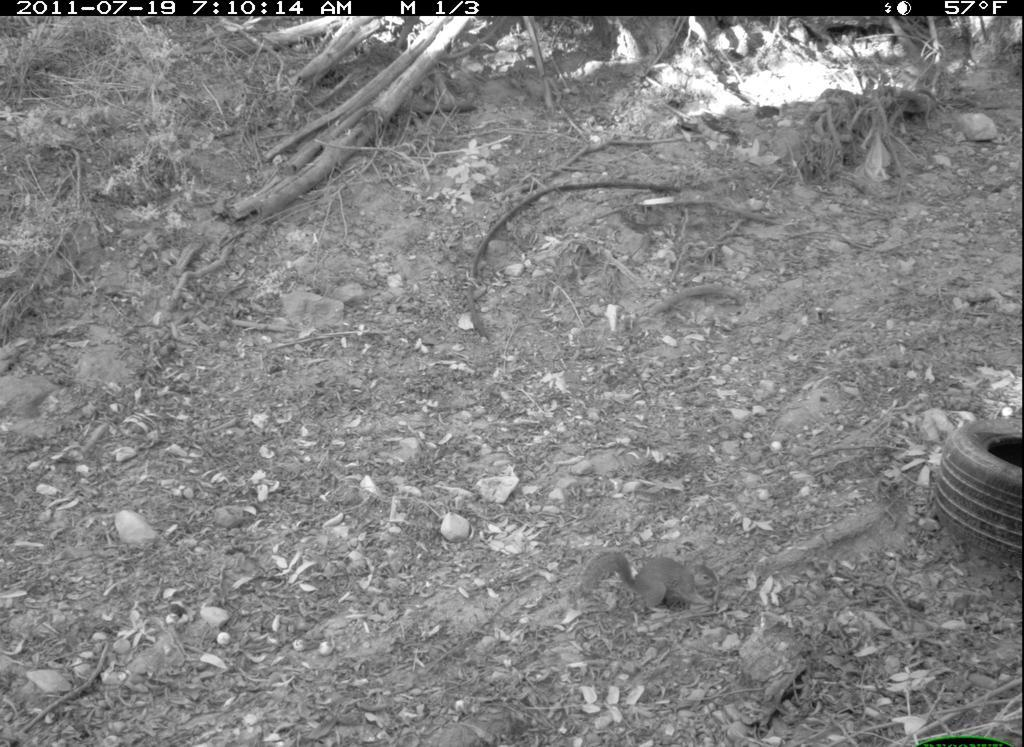squirrel: (578, 523, 733, 633)
